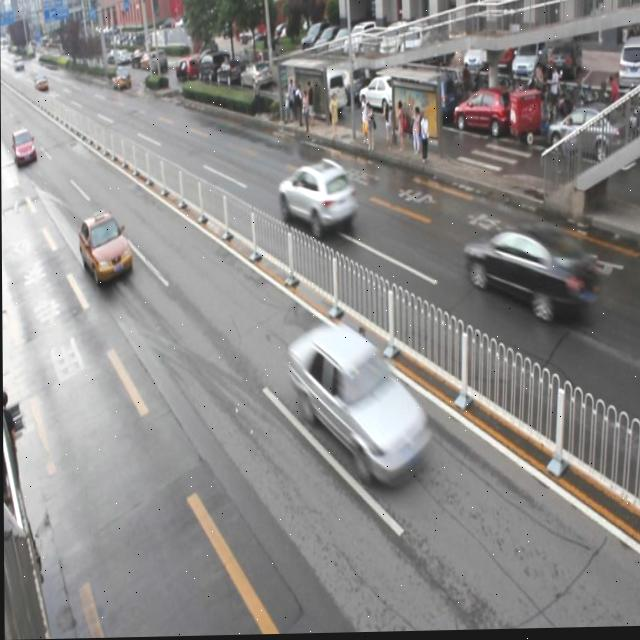car: (288, 322, 431, 489), (463, 223, 600, 329), (277, 162, 355, 237), (78, 209, 132, 286)
